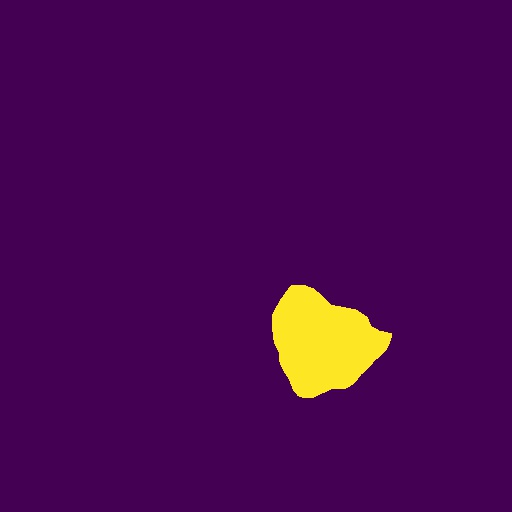Menigiomia_tumour: (272, 285, 392, 398)
